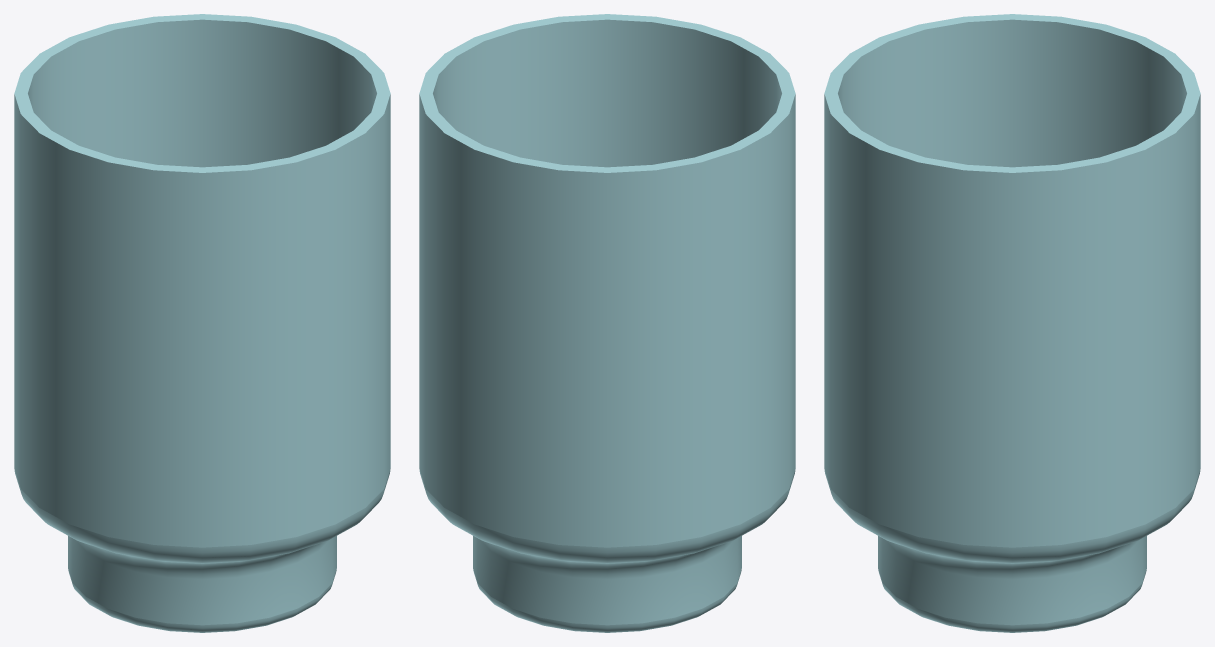
File: original-8.obj
3 renders of one model, left to right at view 1: azimuth 30°, elevation 25°; view 2: azimuth 150°, elevation 25°; view 3: azimuth 270°, elevation 25°, orthographic.
Parts seen in each view (by area): view 1: mesh10/mesh10-geometry#mesh10-geometry; view 2: mesh10/mesh10-geometry#mesh10-geometry; view 3: mesh10/mesh10-geometry#mesh10-geometry.
Part boxes in pixels (<box>): mesh10/mesh10-geometry#mesh10-geometry: <box>14,14,390,632</box>; mesh10/mesh10-geometry#mesh10-geometry: <box>419,14,795,632</box>; mesh10/mesh10-geometry#mesh10-geometry: <box>824,14,1200,632</box>.
Bounding box in the file's own units: 0.1666 × 0.2379 × 0.1666.
